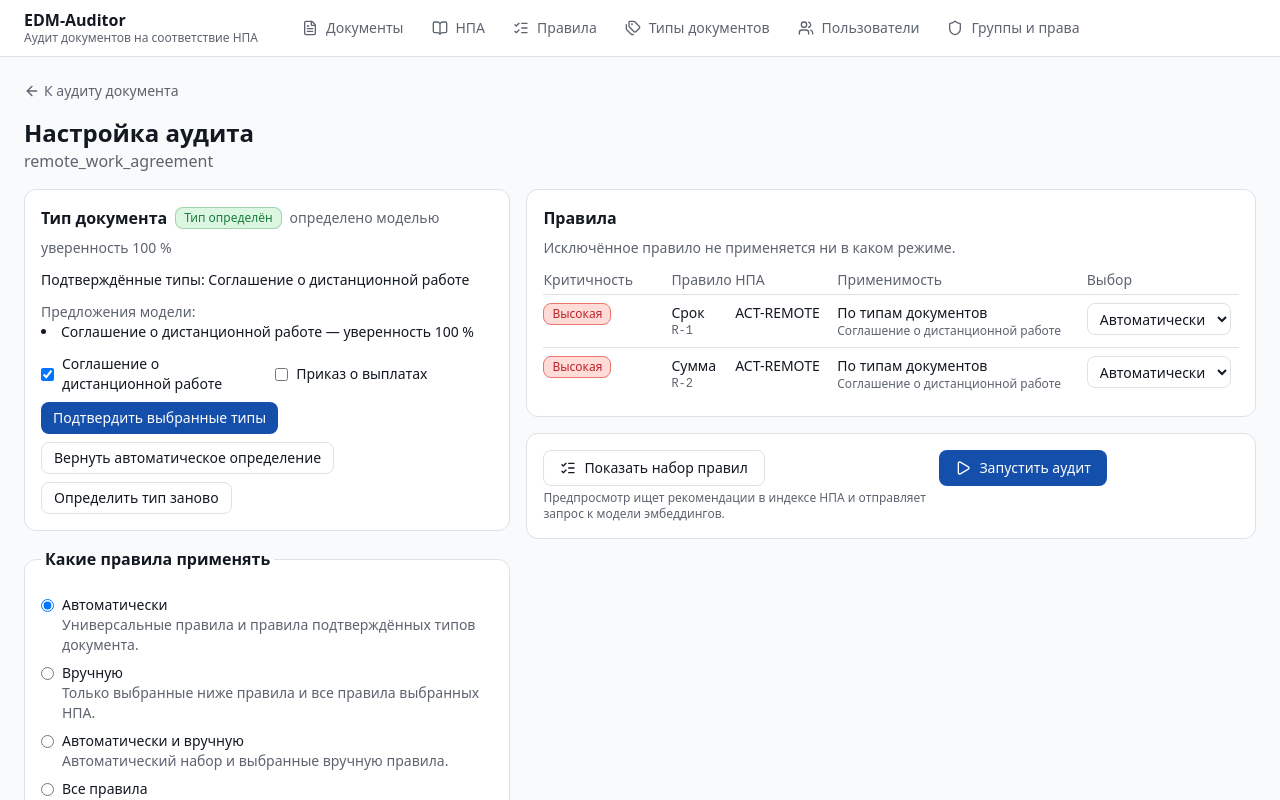
Test: audit configuration › marks the preview as stale after a change
Click the button "Показать набор правил".
click(654, 468)  # box [543, 450, 765, 486]
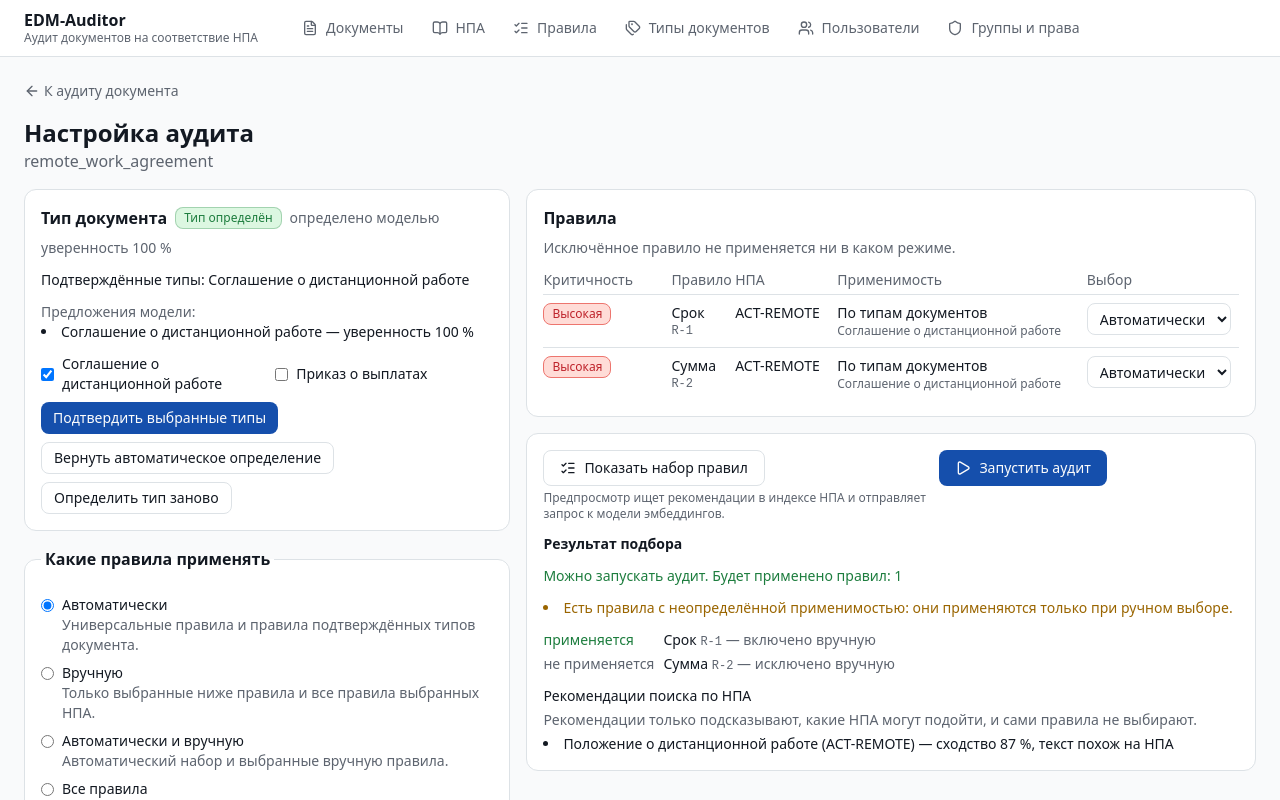
Now the text "Можно запускать аудит. Будет применено правил: 1" is shown, box [543, 566, 902, 585]
Click the radio button labelled "Вручную".
click(48, 674)  # box [41, 667, 54, 680]
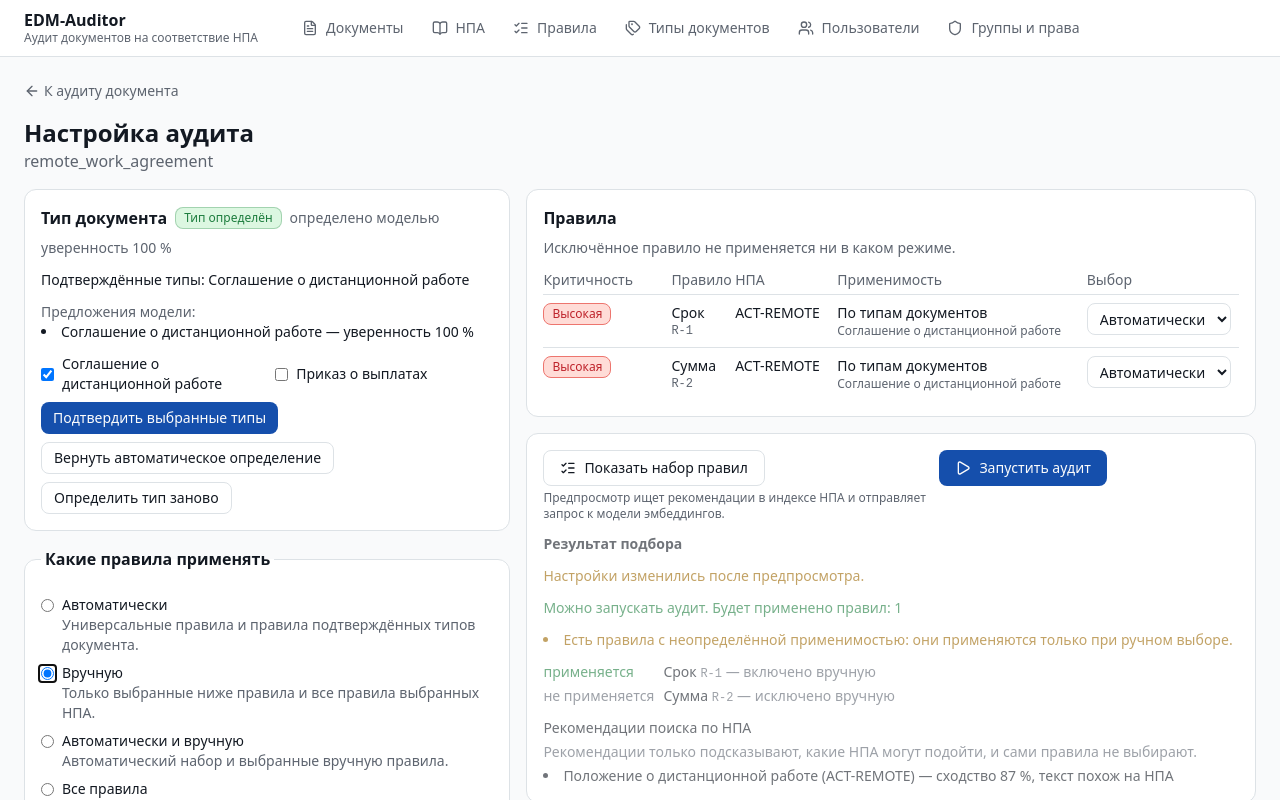
Now the text "Настройки изменились после предпросмотра." is shown, box [543, 566, 864, 585]
